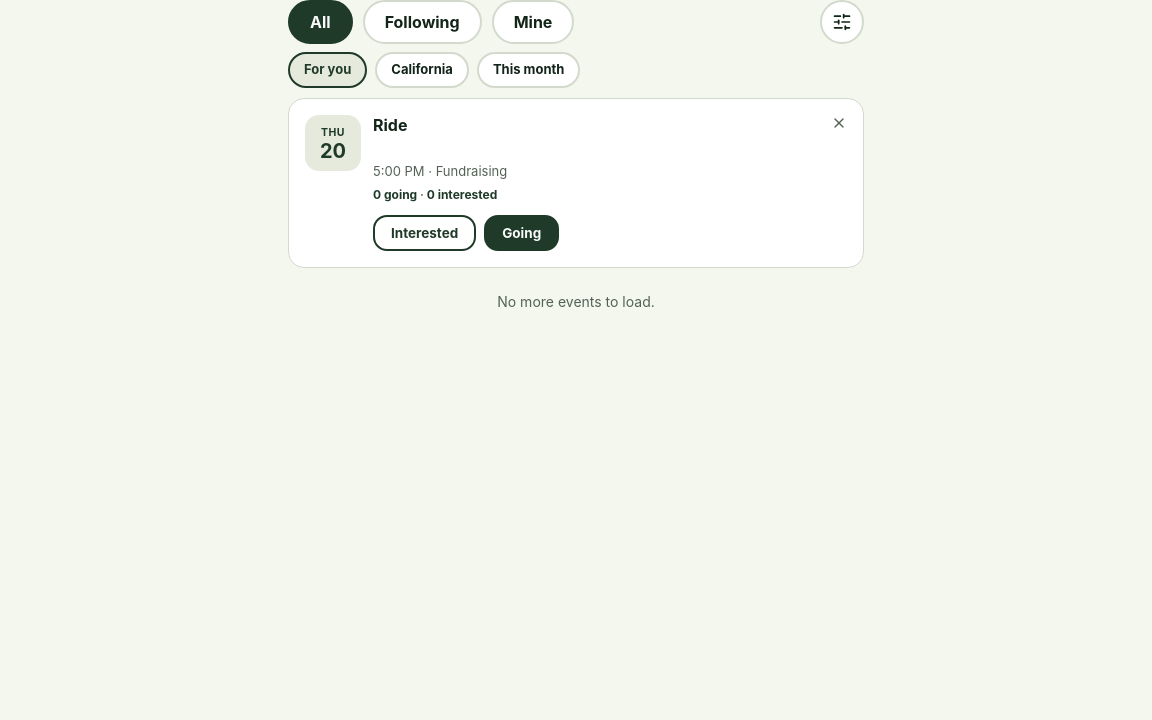
Test case: EventsPage › still offers the calendar when a listing carries no links
Expected: the heading "Ride" is shown, [373,115,408,135]
Click the button "Going" at (522, 233), box [484,215,559,251]
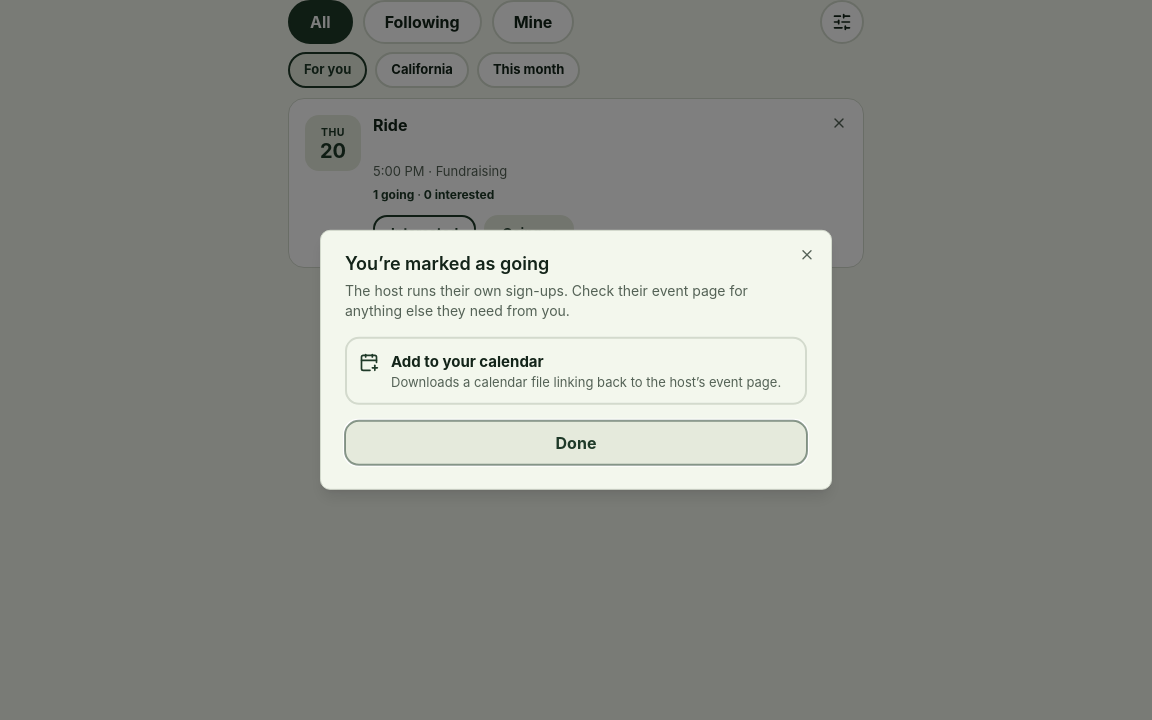
Expected: the link "Add to your calendar" is shown, [345,337,807,405]
Expected: the text "host runs their own sign-ups" is shown, [345,282,748,319]
